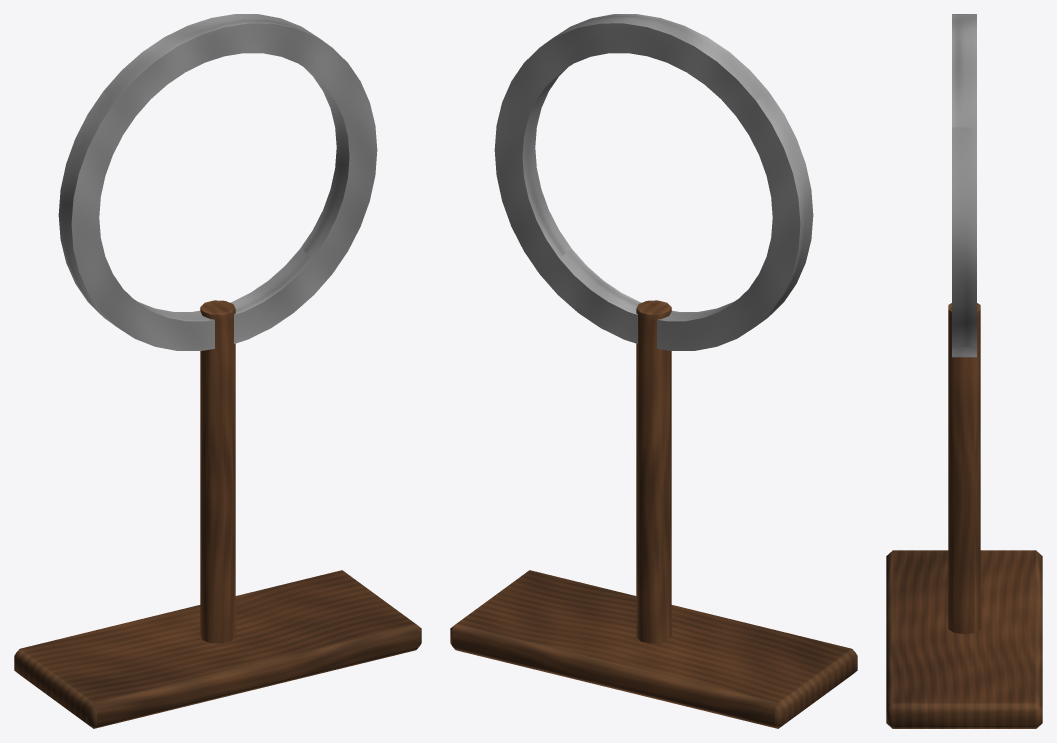
The model's file is Furn_Broom_Hoop.fbx.
3 renders of one model, left to right at view 1: azimuth 30°, elevation 25°; view 2: azimuth 150°, elevation 25°; view 3: azimuth 270°, elevation 25°, orthographic. The views are drawn at different scales.
Parts seen in each view (by area): view 1: Furn_Broom_Hoop; view 2: Furn_Broom_Hoop; view 3: Furn_Broom_Hoop.
Boxes of the visible parts, bbox=[...] form: Furn_Broom_Hoop: bbox=[14, 14, 421, 728]; Furn_Broom_Hoop: bbox=[450, 14, 857, 728]; Furn_Broom_Hoop: bbox=[886, 14, 1042, 728].
Size of the model in its own units: 1.2 by 2.2 by 0.5.
2 materials, 2 textured.
